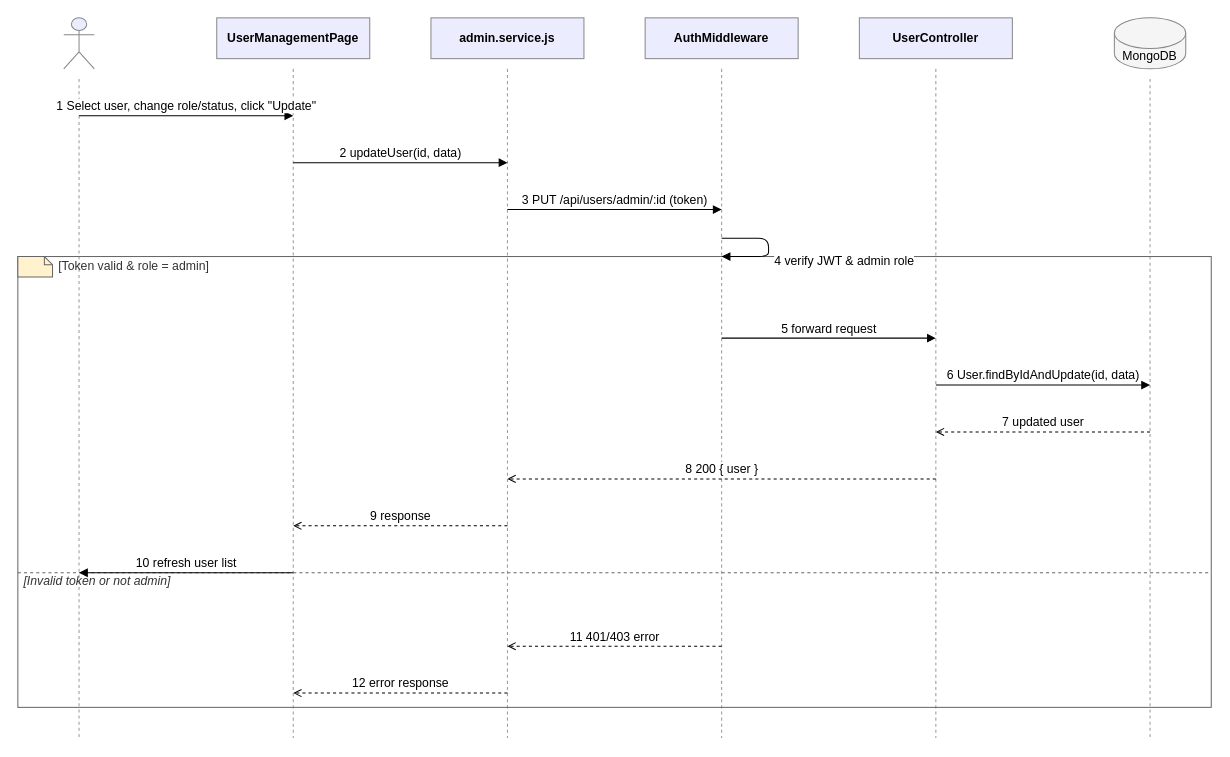
Image size: 1230x757. Some labels were removed from this diagram. The centre of each missing label's shape, as x and y in pixels:
Admin: (x=78, y=43)
alt: (x=35, y=266)
